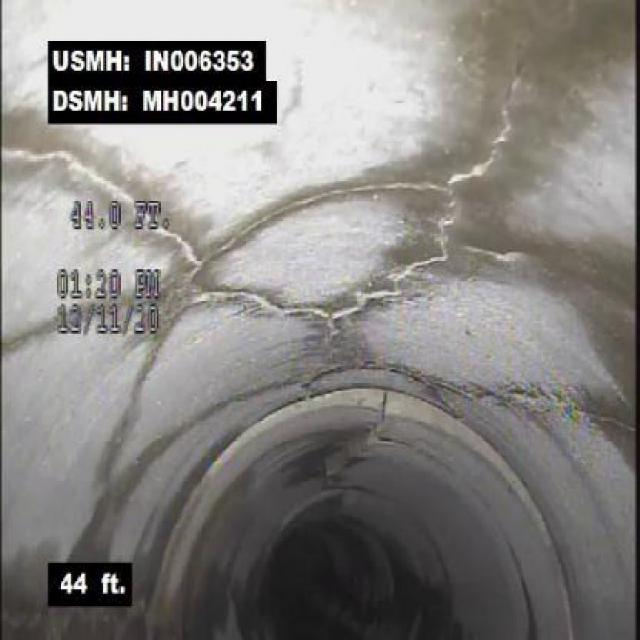Buckling: (320, 388, 437, 492)
Crack: (355, 80, 500, 338), (482, 335, 629, 451), (214, 245, 346, 343)
